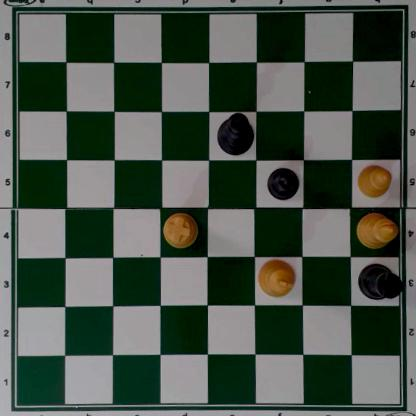black-king: (215, 112, 254, 155)
black-pawn: (267, 165, 299, 200)
black-rook: (357, 261, 400, 301)
white-bishop: (356, 211, 399, 249)
white-king: (257, 257, 296, 298)
white-pawn: (356, 165, 391, 197)
white-rook: (163, 212, 197, 248)
